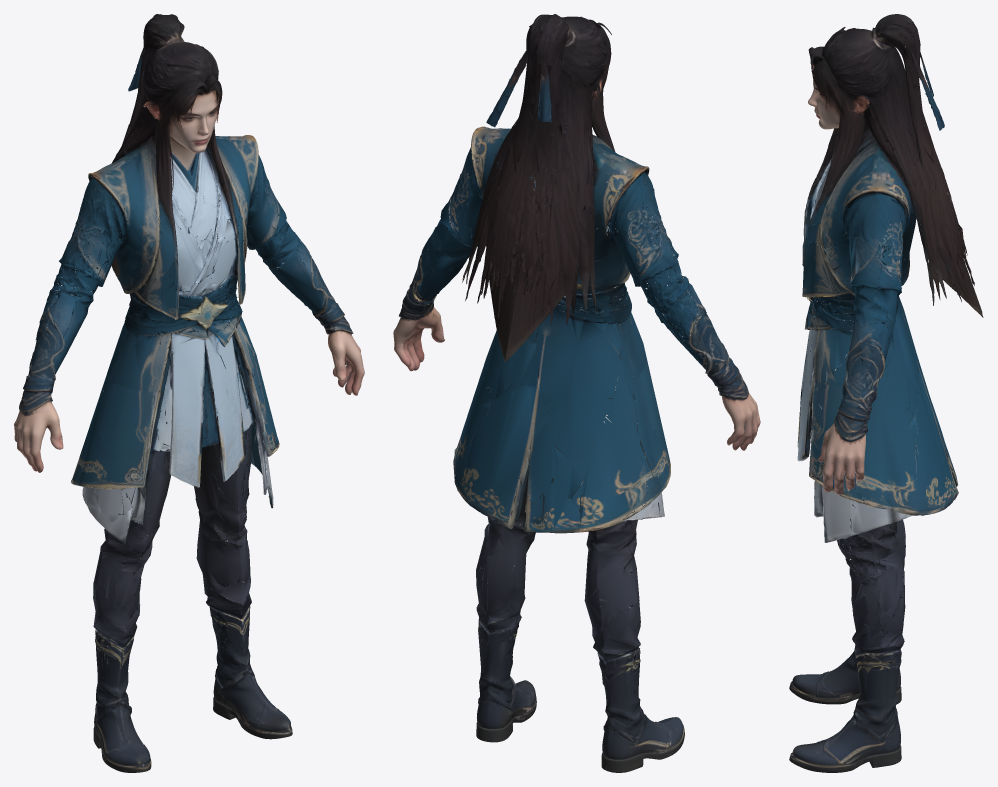
The model's file is cultivator_tripo_v9_mixamo_lowpoly.fbx.
The picture shows the model from 3 angles, left to right: view 1: azimuth 30°, elevation 25°; view 2: azimuth 150°, elevation 25°; view 3: azimuth 270°, elevation 25°; orthographic projection. The views are drawn at different scales.
Parts seen in each view (by area): view 1: node_0; view 2: node_0; view 3: node_0.
Boxes of the visible parts, box(x1,y1,x2,y2) form: node_0: box(14, 14, 364, 772); node_0: box(393, 14, 760, 772); node_0: box(789, 14, 983, 772).
Bounding box in the file's own units: 87.92 × 43.08 × 175.
1 material, 1 textured.
